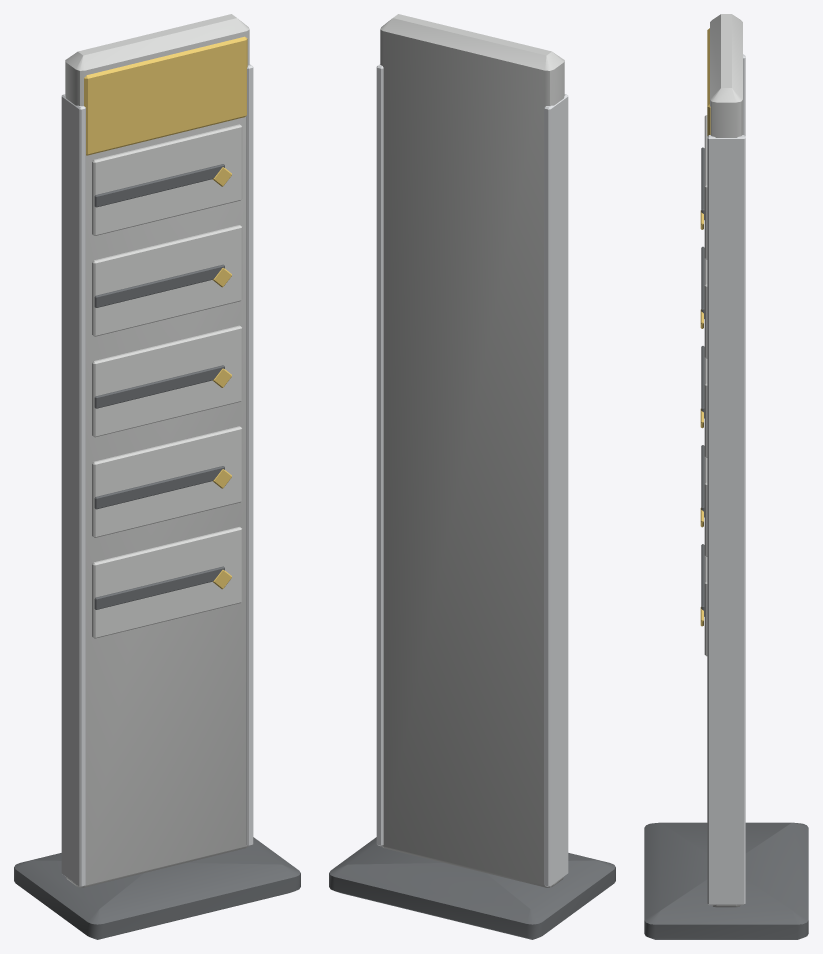
Rendered from clinic-and-veterinary-practice-wayfinding-sign-1875de24__16828.glb.
3 views of the same model, side by side, from view 1: azimuth 30°, elevation 25°; view 2: azimuth 150°, elevation 25°; view 3: azimuth 270°, elevation 25° (orthographic).
Visible parts, largest first — view 1: wayfinding-sign; view 2: wayfinding-sign; view 3: wayfinding-sign.
Part boxes in pixels (left/top/right/bottom): wayfinding-sign: left=14, top=14, right=300, bottom=939; wayfinding-sign: left=329, top=14, right=615, bottom=939; wayfinding-sign: left=644, top=14, right=808, bottom=939.
Bounding box in the file's own units: 0.44 × 1.7 × 0.3.
